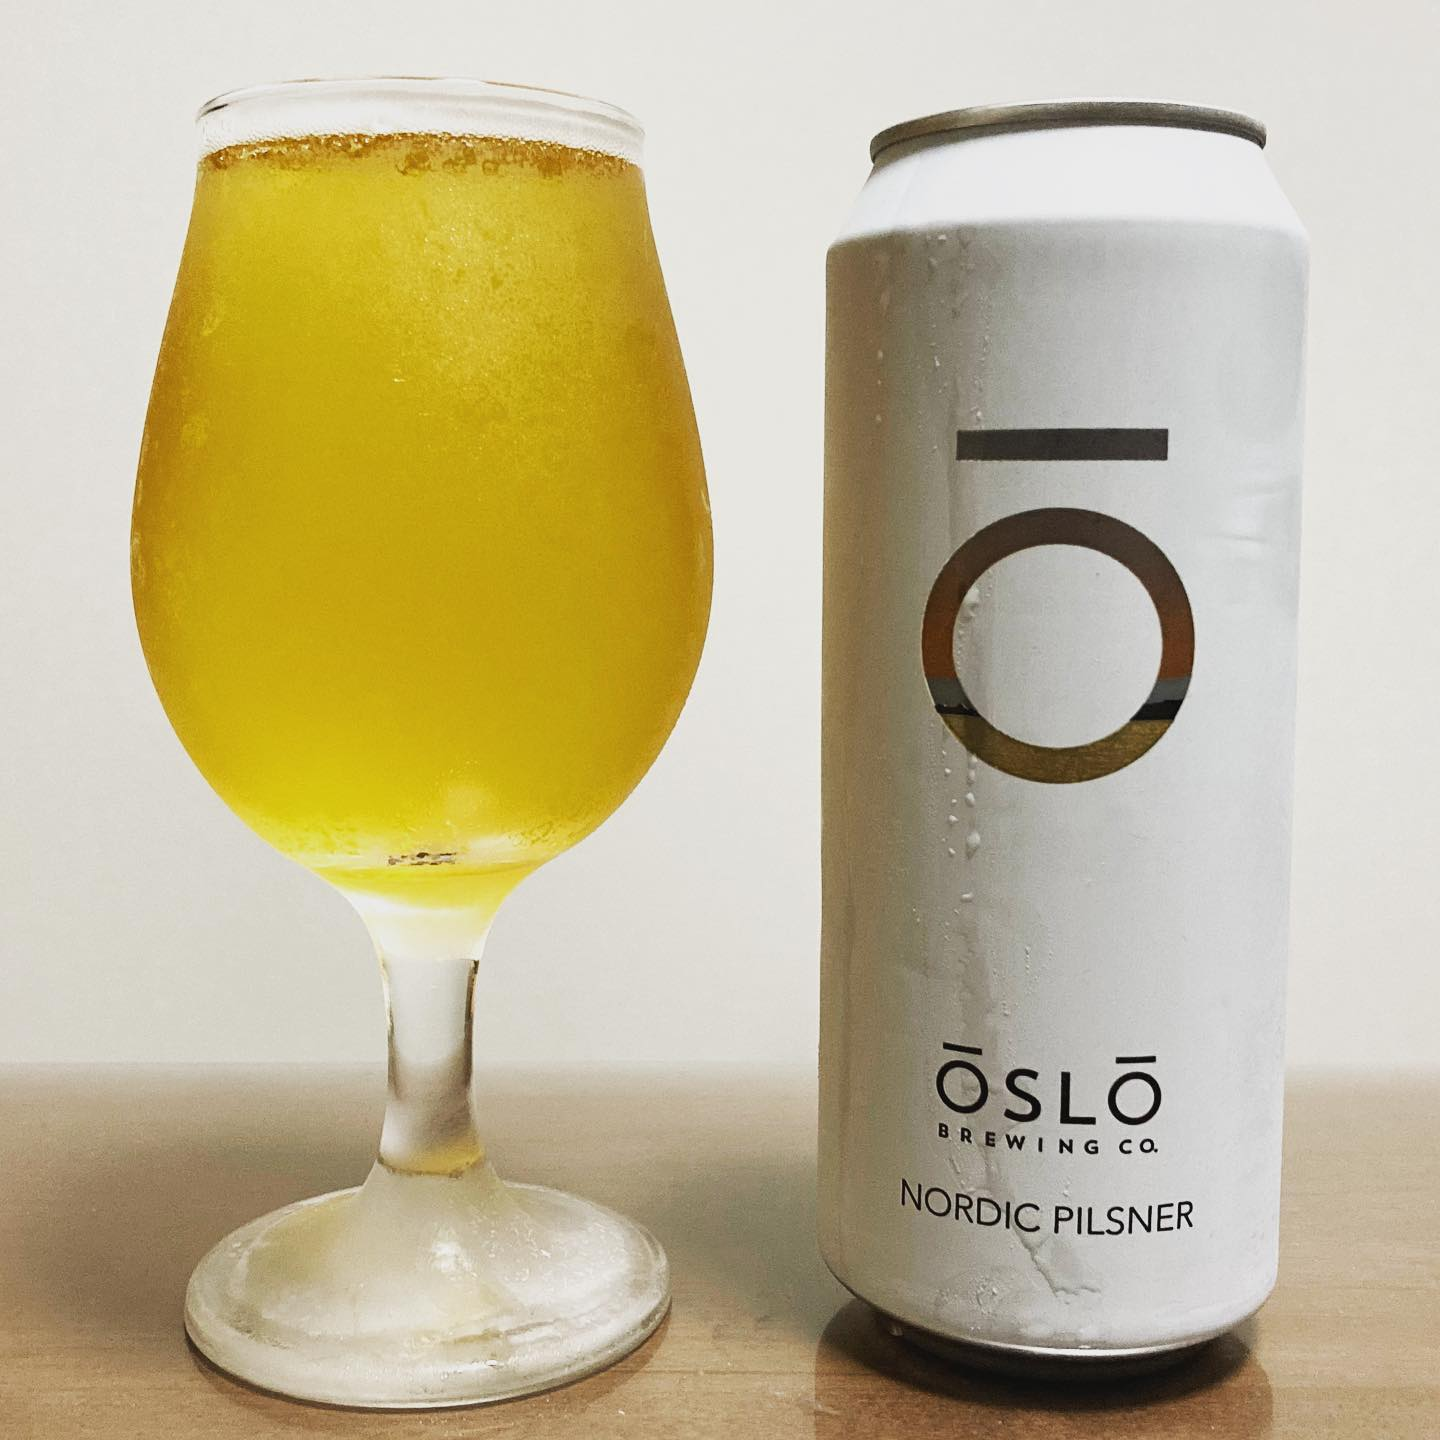alcohol: (121, 65, 720, 1424), (800, 91, 1319, 1400)
